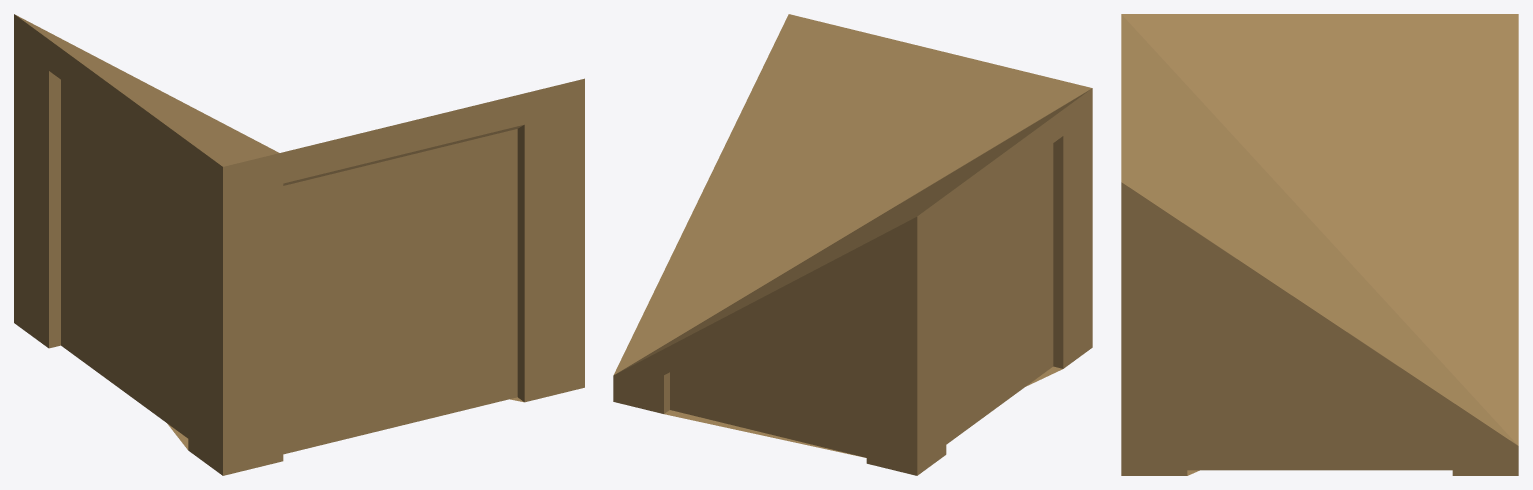
The model's file is roof_inner_corner_green_01.glb.
The picture shows the model from 3 angles, left to right: view 1: azimuth 30°, elevation 25°; view 2: azimuth 150°, elevation 25°; view 3: azimuth 270°, elevation 25°; orthographic projection. The views are drawn at different scales.
Parts seen in each view (by area): view 1: Mesh1 Roof_Inner_Corner_Green Model; view 2: Mesh1 Roof_Inner_Corner_Green Model; view 3: Mesh1 Roof_Inner_Corner_Green Model.
Part boxes in pixels (x1=…): Mesh1 Roof_Inner_Corner_Green Model: x1=14, y1=14, x2=584, y2=475; Mesh1 Roof_Inner_Corner_Green Model: x1=613, y1=14, x2=1092, y2=475; Mesh1 Roof_Inner_Corner_Green Model: x1=1121, y1=14, x2=1518, y2=475.
Bounding box in the file's own units: 3 × 2.45 × 3.
